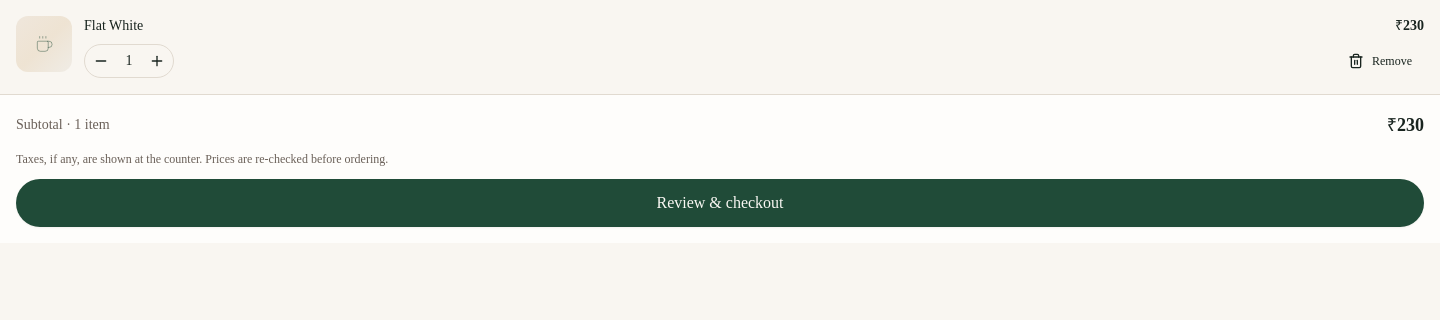
Test: Cart › validates with the backend and uses the canonical price
Click the button "Review & checkout" at (720, 203), box [16,179,1424,227]
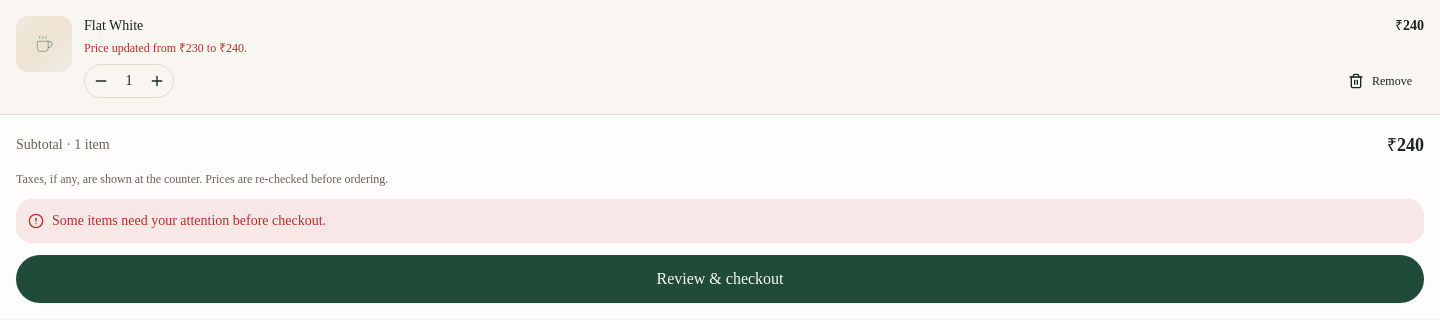
Now the text "Price updated from ₹230 to ₹240." is shown, box [84,41,247,55]
Now the text with test id "cart-subtotal" reads "₹240", box [1387,135,1424,155]
Now the message shows "Some items need your attention", box [52,213,326,228]
